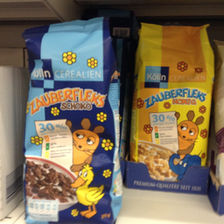cereal: (22, 17, 121, 224), (131, 20, 214, 182)
